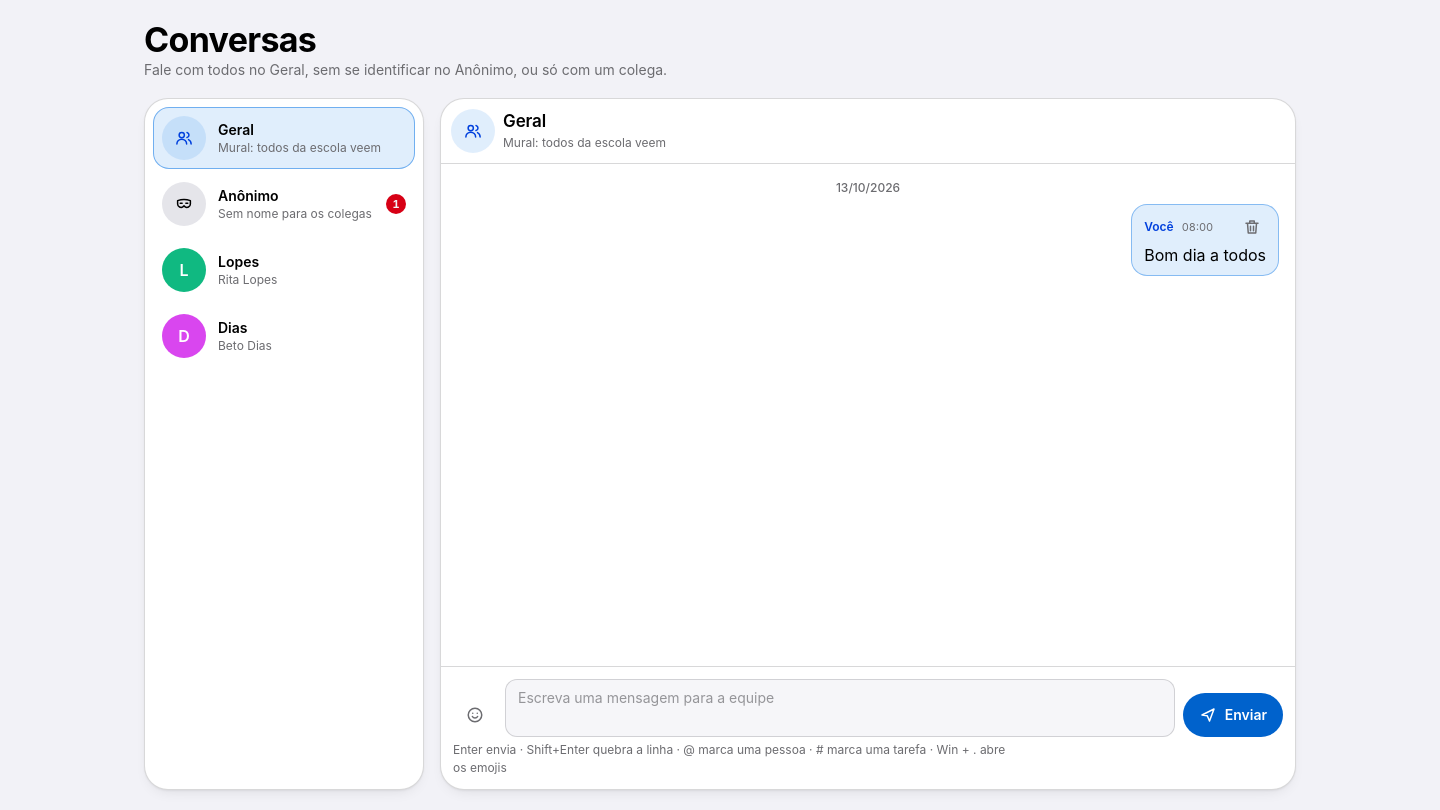
Test: conversas (tela) › no Anônimo a mensagem aparece sem nome e com o aviso das regras
Expected: the navigation bar named "Conversas" is shown, [144,98,424,790]
Click the button "Anônimo Sem nome para os colegas 1" at (284, 204), box [153,173,415,235]
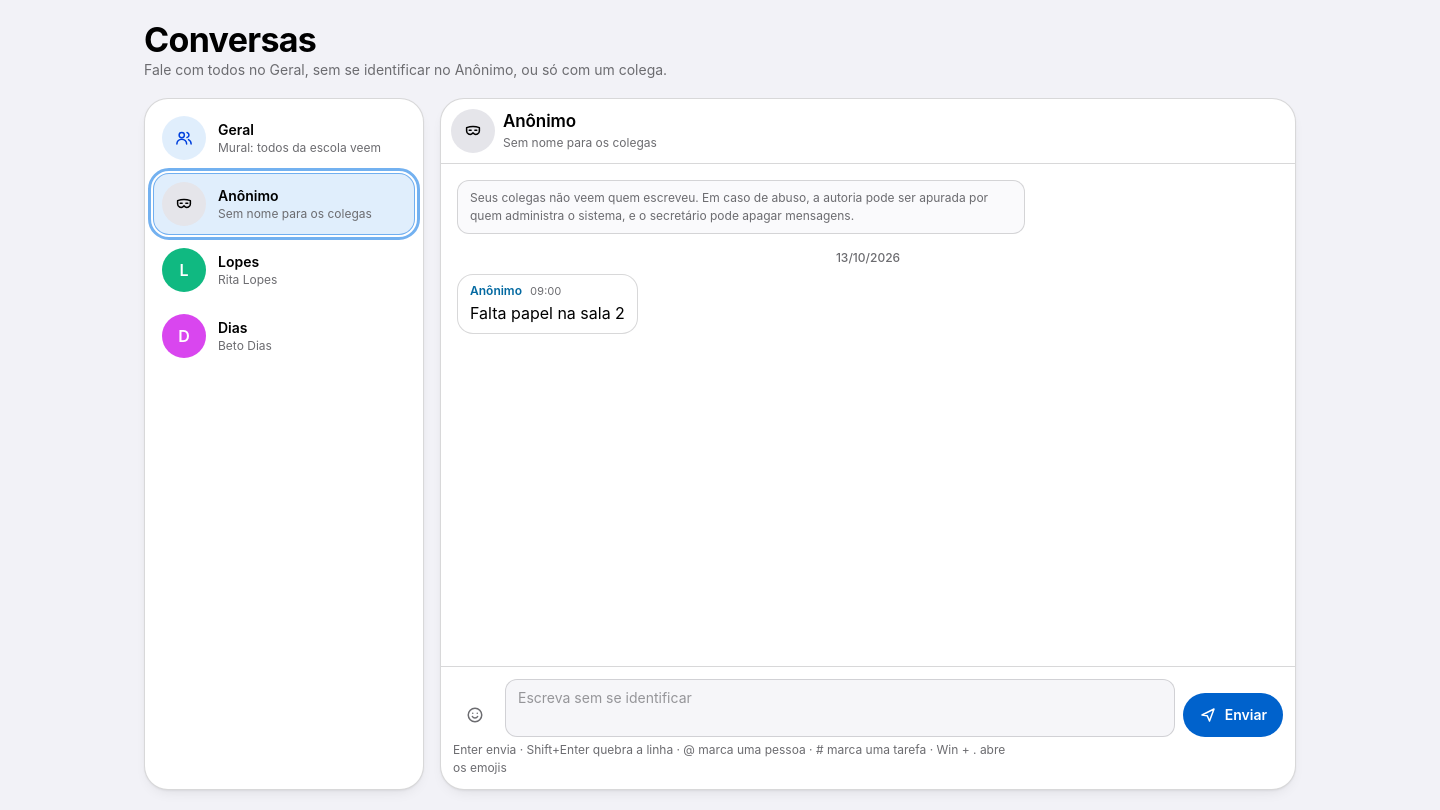
Result: the text "Seus colegas não veem quem escreveu" is shown at [470,190,988,223]
Result: the text "Falta papel na sala 2" is shown at [470,303,625,323]
Type "Concordo" into the text box named "Escrever mensagem" at (840, 708), box [505,679,1175,737]
Then press Enter
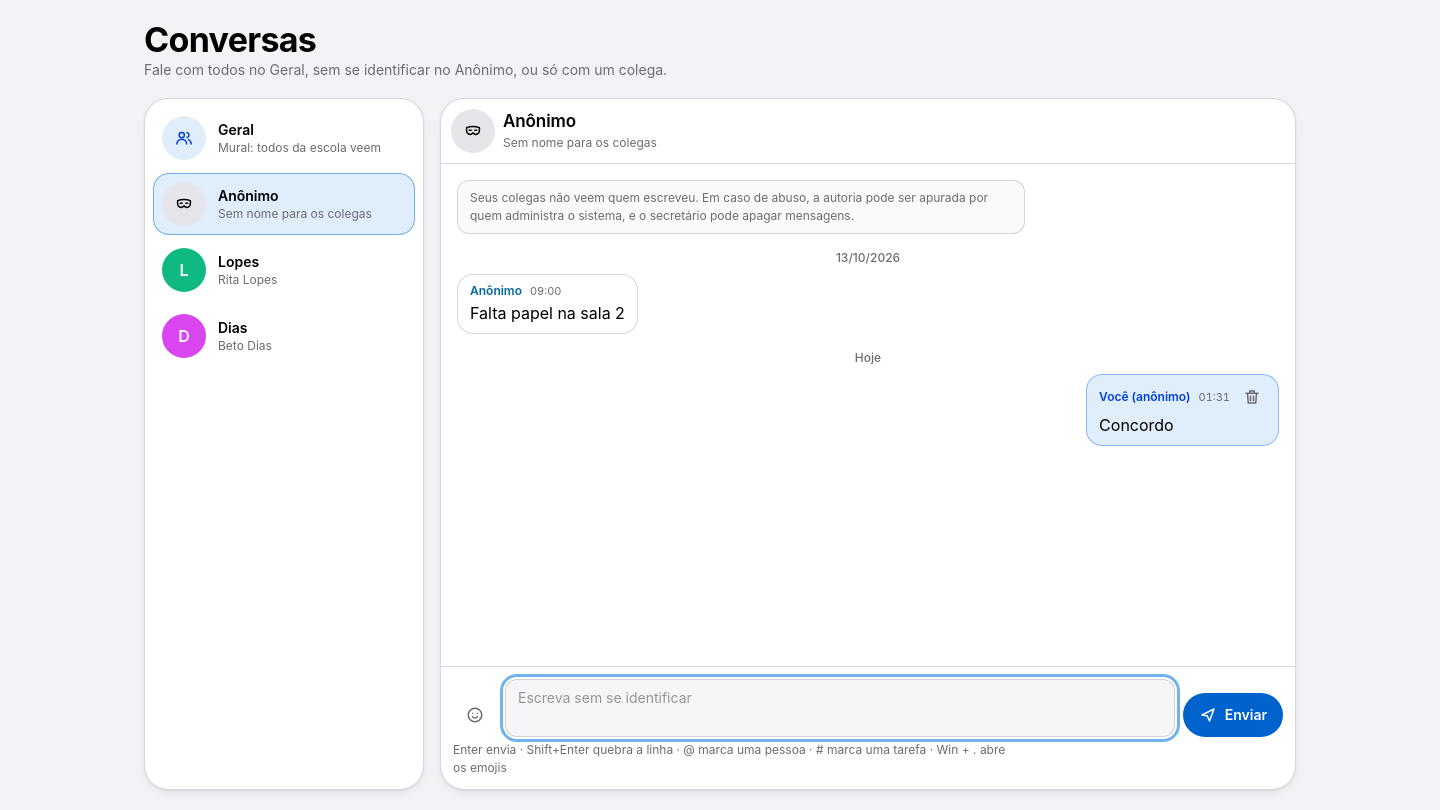
Result: the text "Você (anônimo)" is shown at [1099,389,1190,405]
